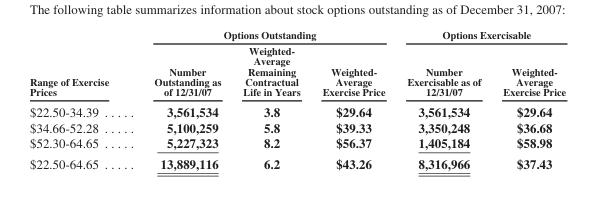table: (28, 28, 565, 170)
table column: (28, 28, 130, 170), (130, 28, 231, 170), (395, 28, 491, 170), (310, 28, 395, 170), (231, 28, 310, 170), (491, 28, 565, 170)
table column header: (28, 28, 565, 100)
table row: (28, 42, 565, 100), (28, 100, 565, 119), (28, 134, 565, 152), (28, 152, 565, 170), (28, 119, 565, 134), (28, 28, 565, 42)
table spanning cell: (28, 28, 130, 100), (130, 28, 395, 42), (395, 28, 565, 42)
